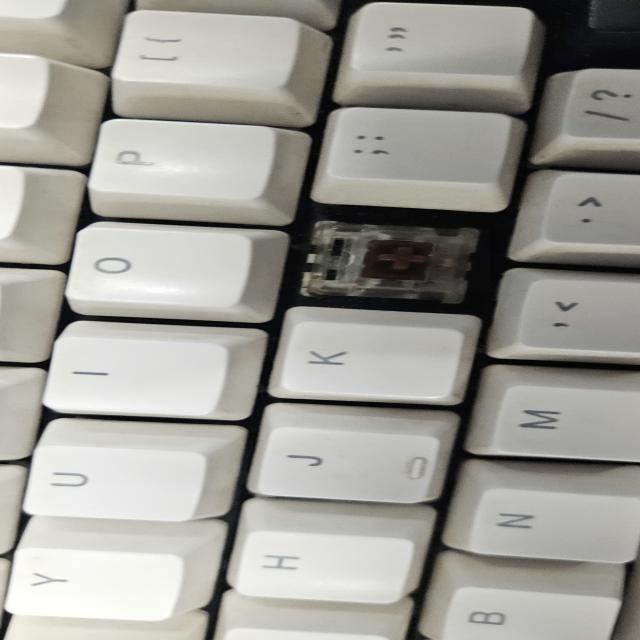C: (325, 229, 490, 292)
